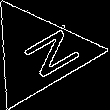N_SW: (3, 23, 75, 84)
